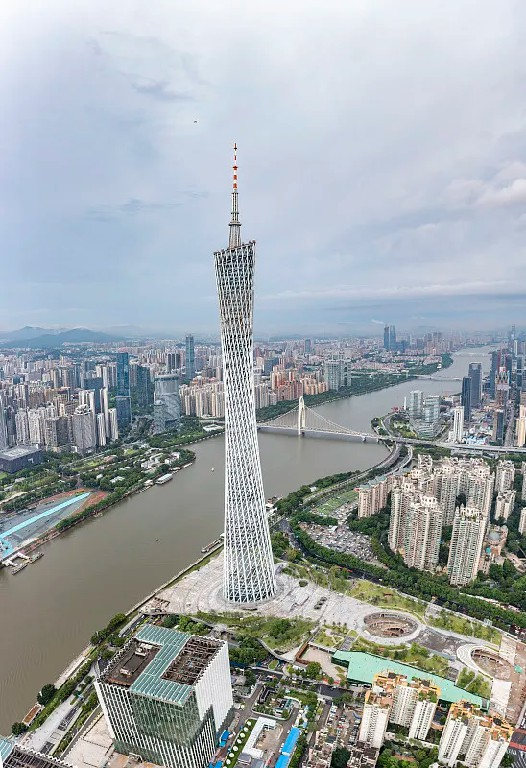Canton: (213, 142, 282, 603)
